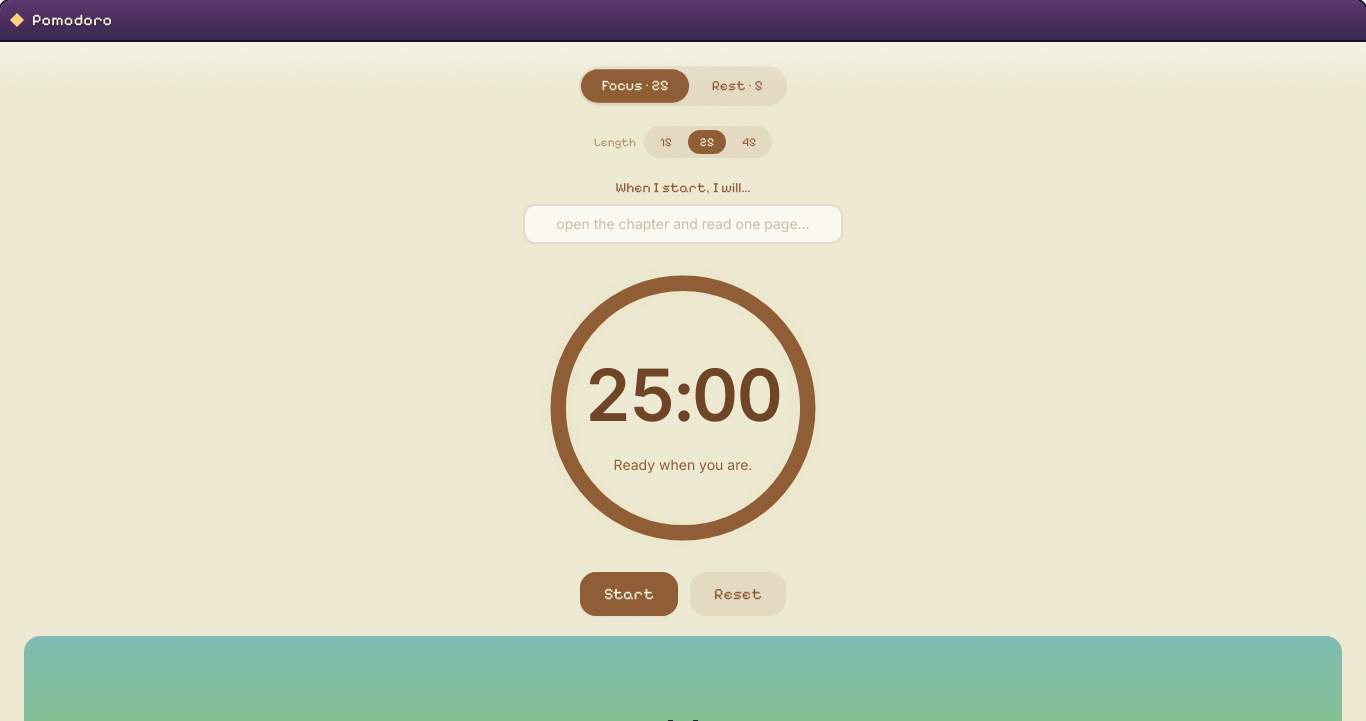
Test: PomodoroTimer (timestamp-based countdown) › resets back to a full 25:00
Click the button "Start". click: point(629, 594)
box: [580,572,678,616]
Wait 30000 ms
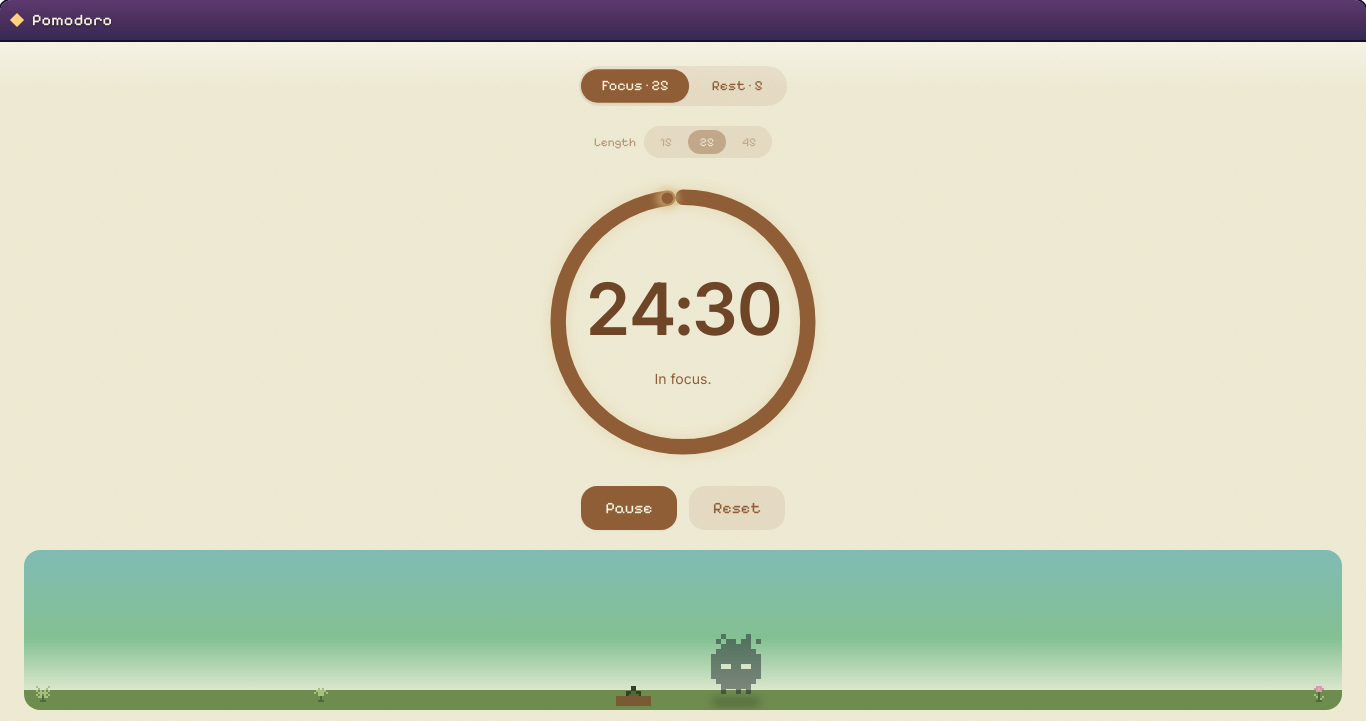
Click the button "Reset". click: point(737, 508)
box: [689,486,785,530]
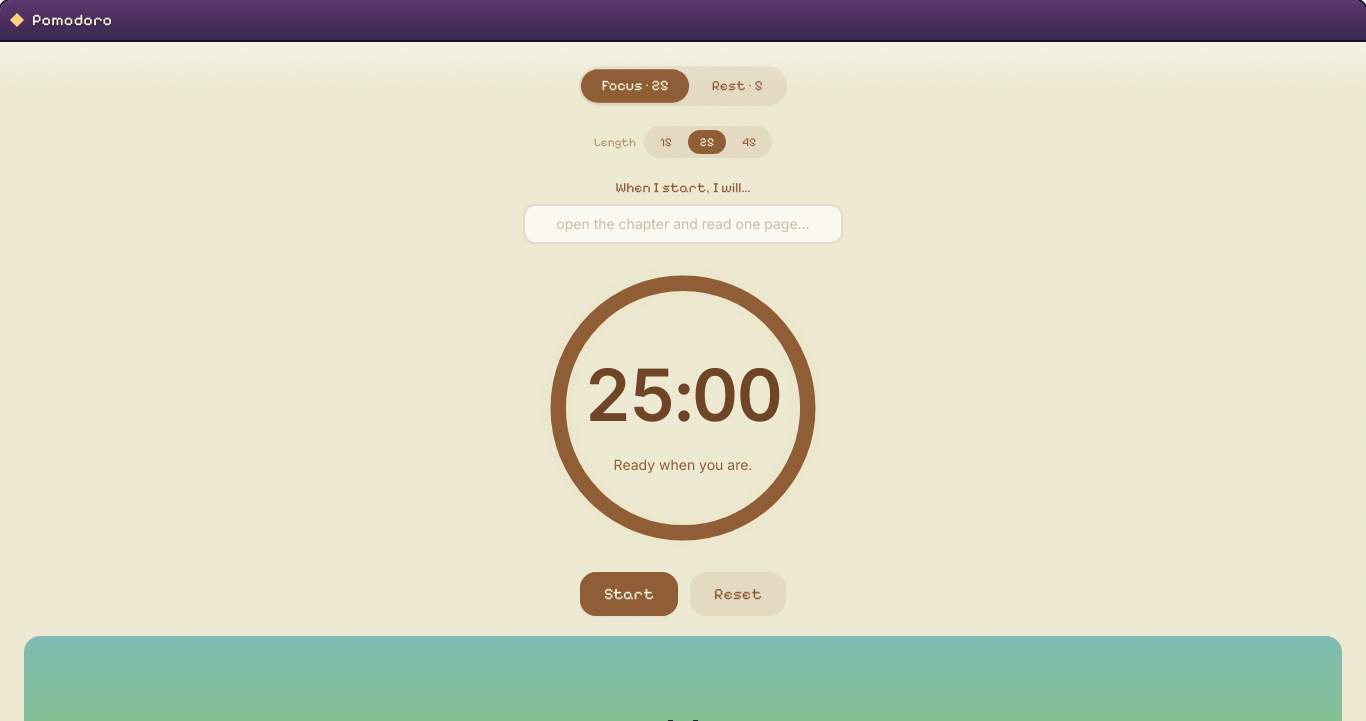
Expected: the text "25:00" is shown, [585,341,781,449]
